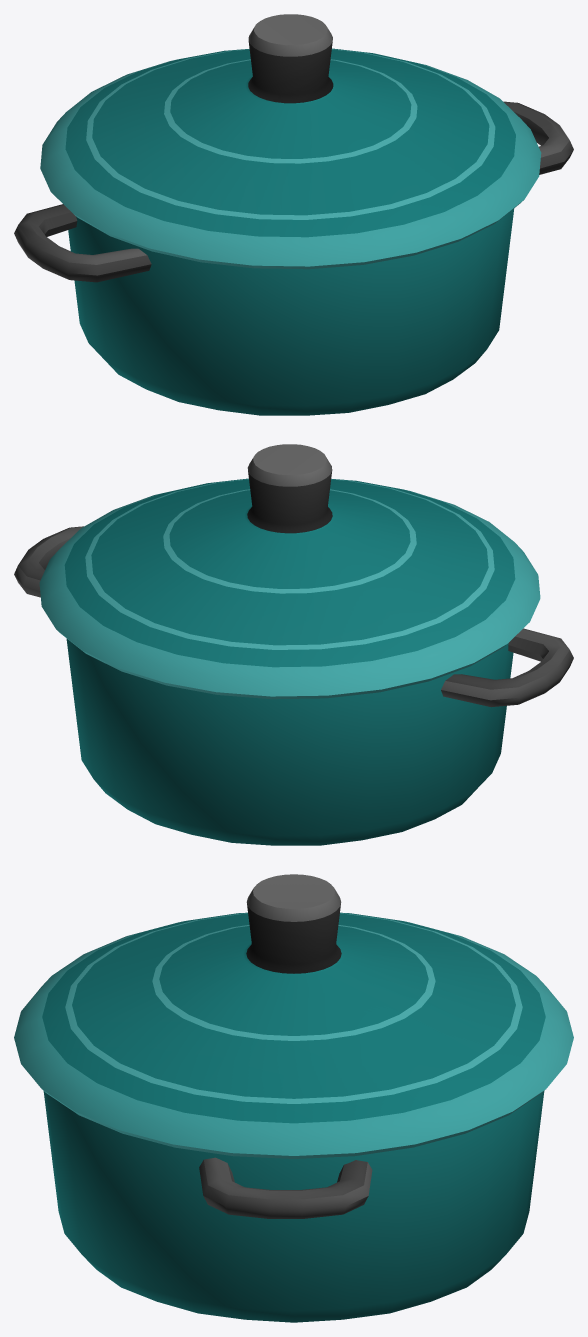
The model's file is Pan_17.fbx.
The picture shows the model from 3 angles, top to bottom: view 1: azimuth 30°, elevation 25°; view 2: azimuth 150°, elevation 25°; view 3: azimuth 270°, elevation 25°; orthographic projection. The views are drawn at different scales.
Visible parts, largest first — view 1: Pan_17 Top, Pan_17; view 2: Pan_17 Top, Pan_17; view 3: Pan_17 Top, Pan_17.
Boxes of the visible parts, x1,y1,x2,y2 form: Pan_17 Top: (40,14,541,269); Pan_17: (14,101,573,415); Pan_17 Top: (39,444,540,699); Pan_17: (14,526,573,845); Pan_17 Top: (14,874,573,1158); Pan_17: (43,1091,544,1322).
Size of the model in its own units: 0.3038 by 0.1681 by 0.2526.
